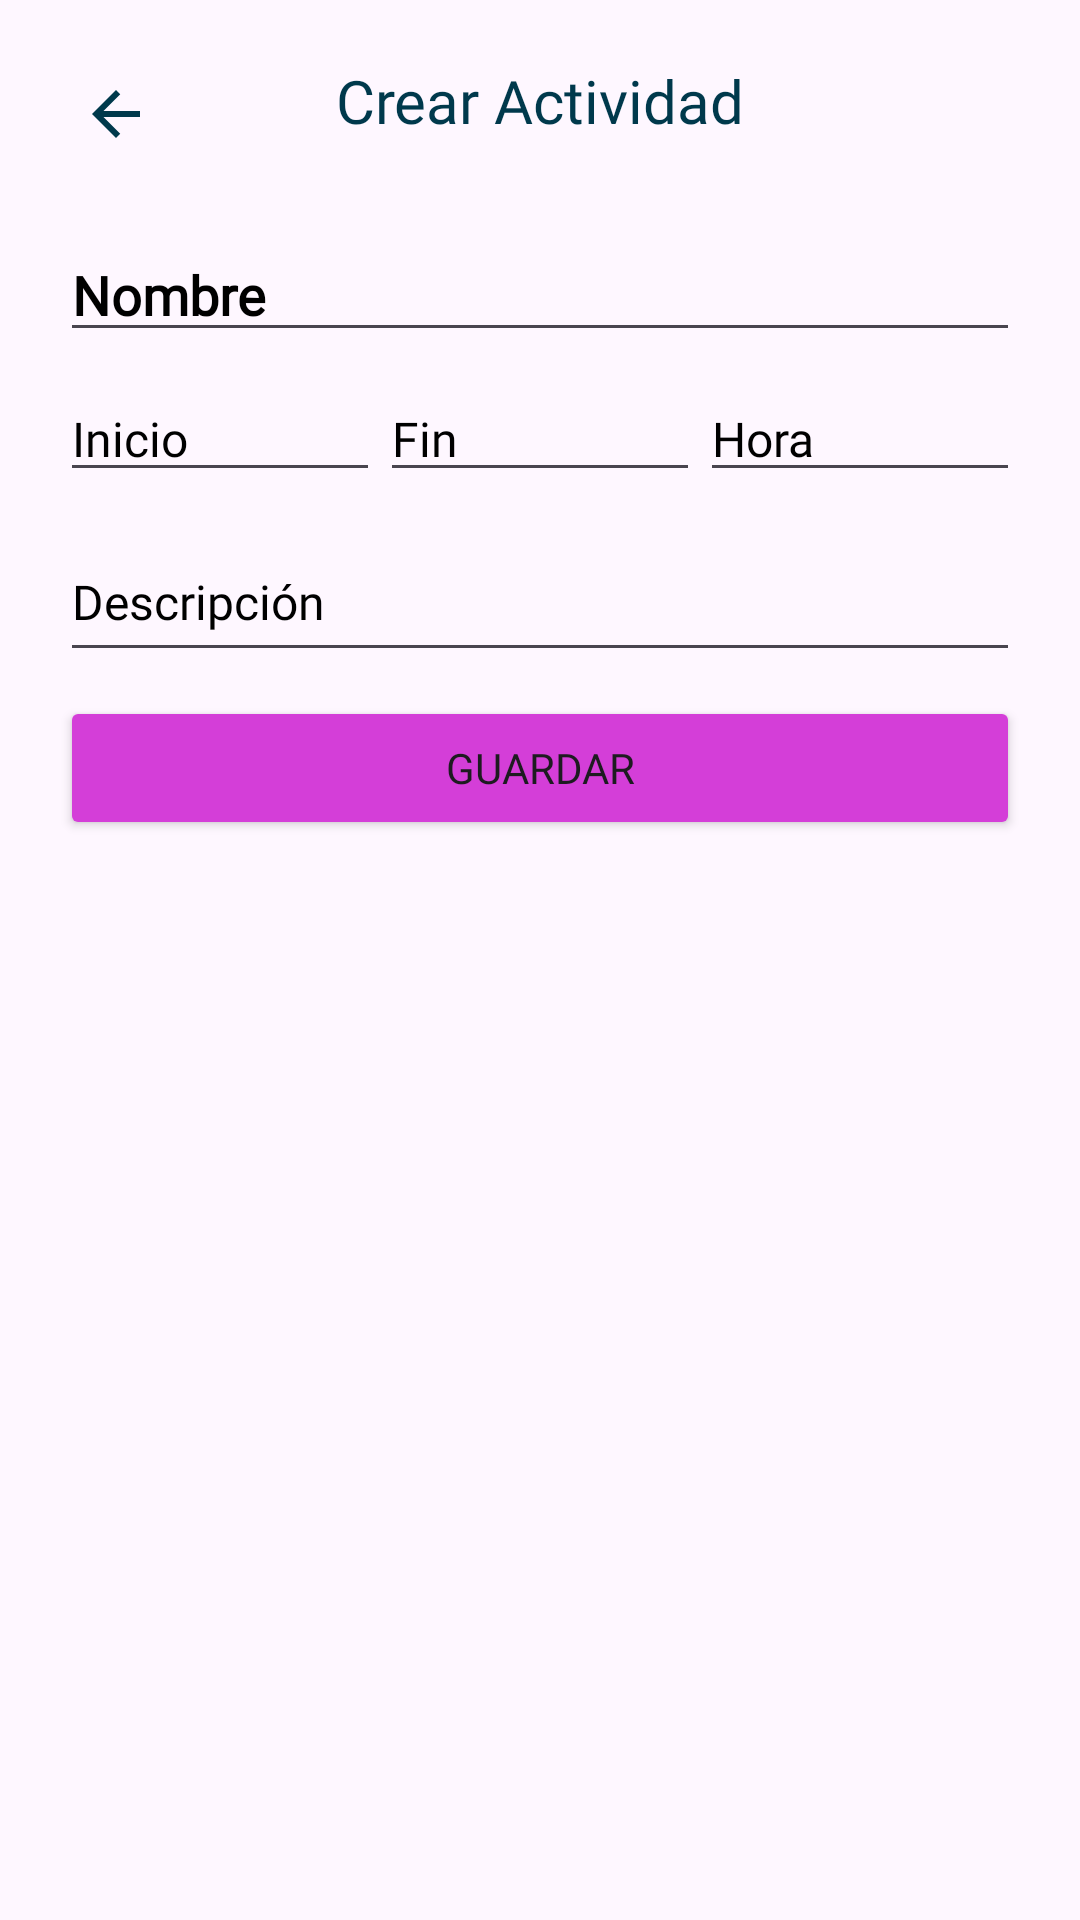

Point at icon controls on the screen. Image size 1080 × 1920, points as [x,y].
arrow back: [116,114]
